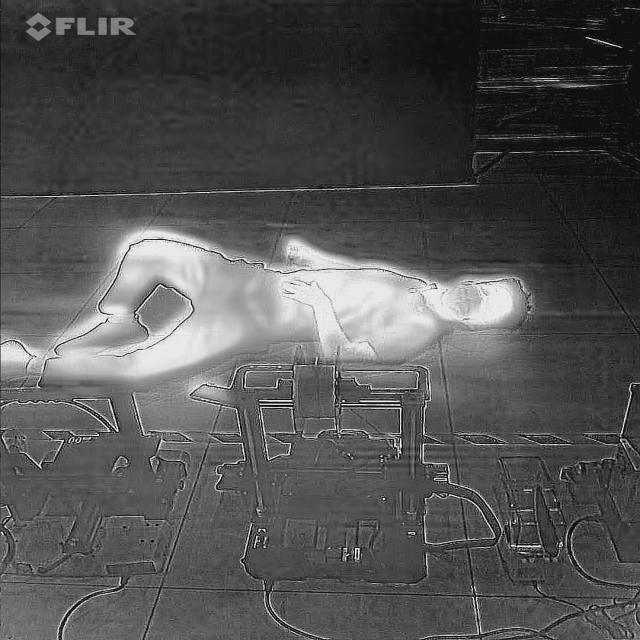Victim: (0, 226, 536, 391)
